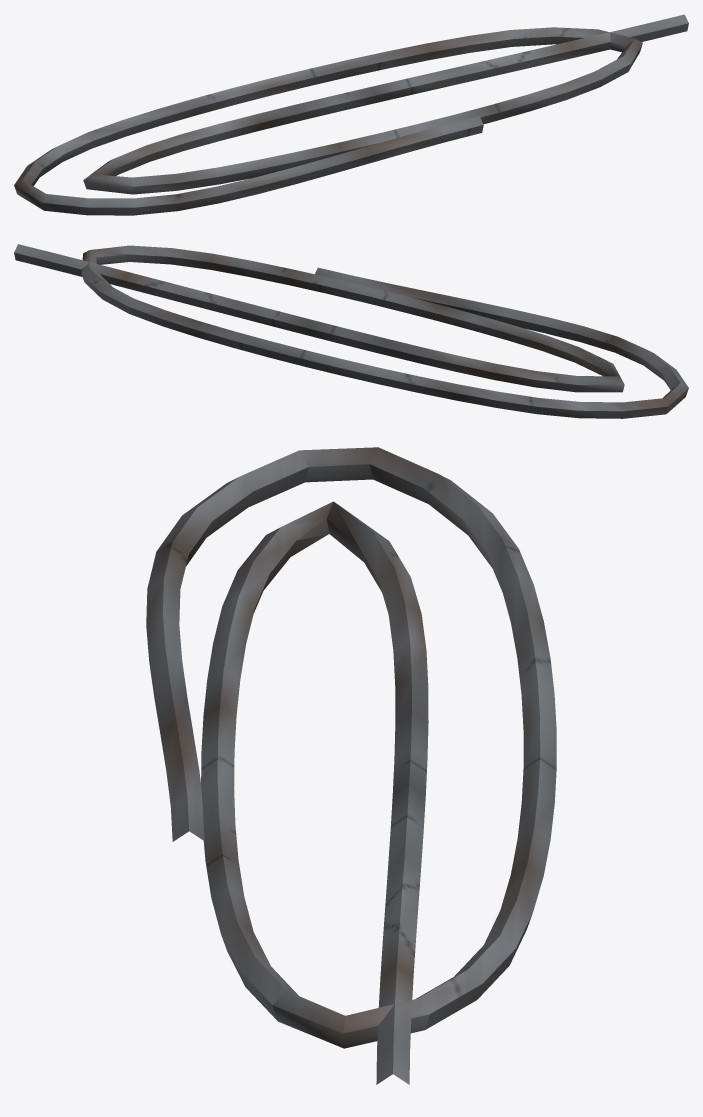
The model's file is paperclip.glb.
The picture shows the model from 3 angles, top to bottom: view 1: azimuth 30°, elevation 25°; view 2: azimuth 150°, elevation 25°; view 3: azimuth 270°, elevation 25°; orthographic projection. The views are drawn at different scales.
Parts seen in each view (by area): view 1: paperclip; view 2: paperclip; view 3: paperclip.
Part boxes in pixels (x1=…): paperclip: x1=14, y1=14, x2=688, y2=215; paperclip: x1=14, y1=244, x2=688, y2=418; paperclip: x1=146, y1=447, x2=556, y2=1084.
Size of the model in its own units: 4.3 by 0.0905 by 1.18.
1 material, 1 textured.
